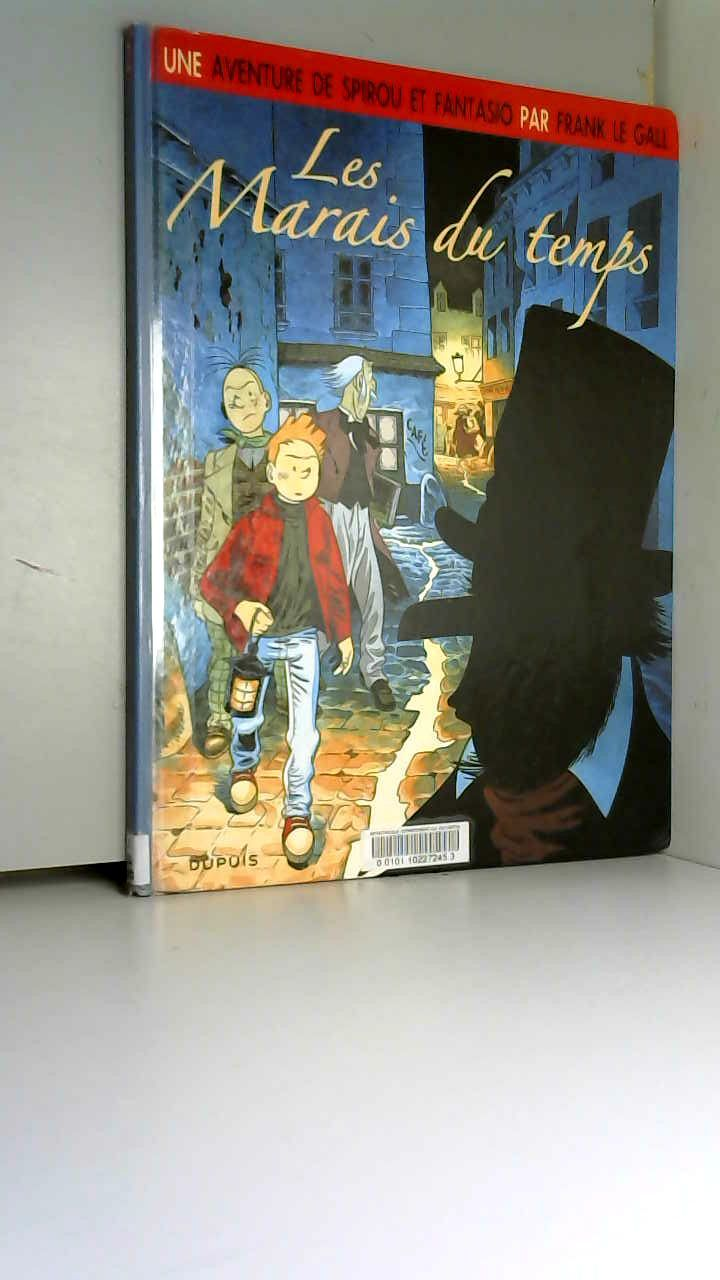book: (90, 0, 715, 920)
